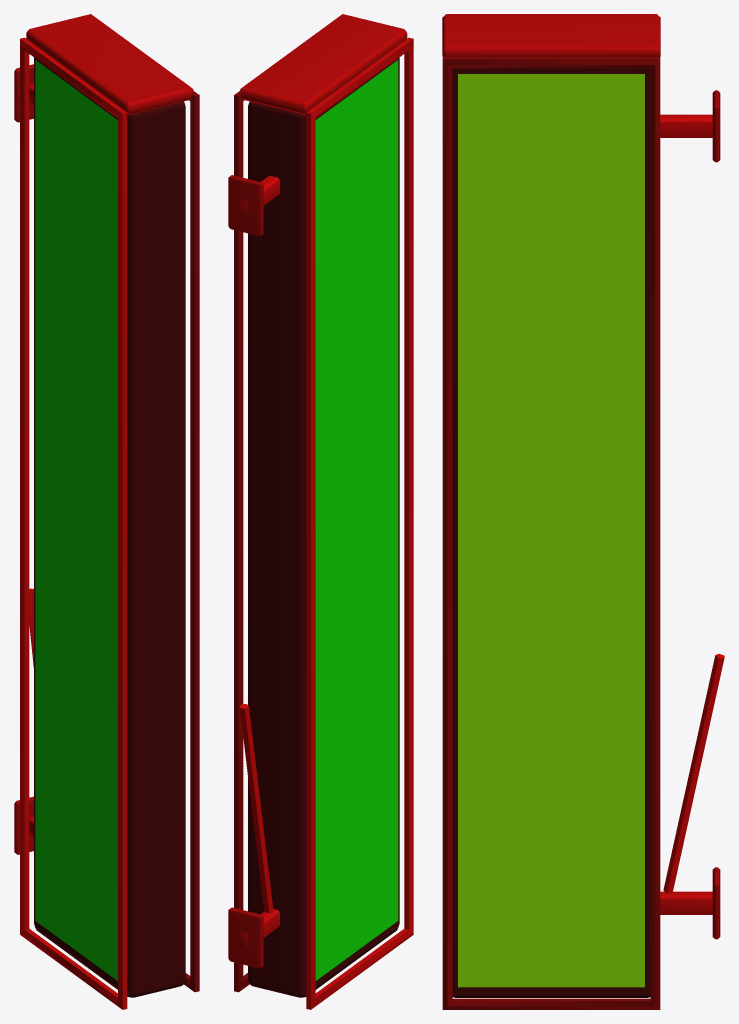
The model's file is sign_blade_a.glb.
3 renders of one model, left to right at view 1: azimuth 30°, elevation 25°; view 2: azimuth 150°, elevation 25°; view 3: azimuth 270°, elevation 25°, orthographic. The views are drawn at different scales.
Visible parts, largest first — view 1: sign_blade_a; view 2: sign_blade_a; view 3: sign_blade_a.
Boxes of the visible parts, x1=… form: sign_blade_a: x1=14, y1=14, x2=199, y2=1009; sign_blade_a: x1=228, y1=14, x2=413, y2=1009; sign_blade_a: x1=442, y1=14, x2=724, y2=1009.
Bounding box in the file's own units: 0.384 × 4.08 × 1.09.
